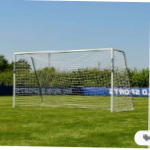goals: (11, 47, 135, 116)
